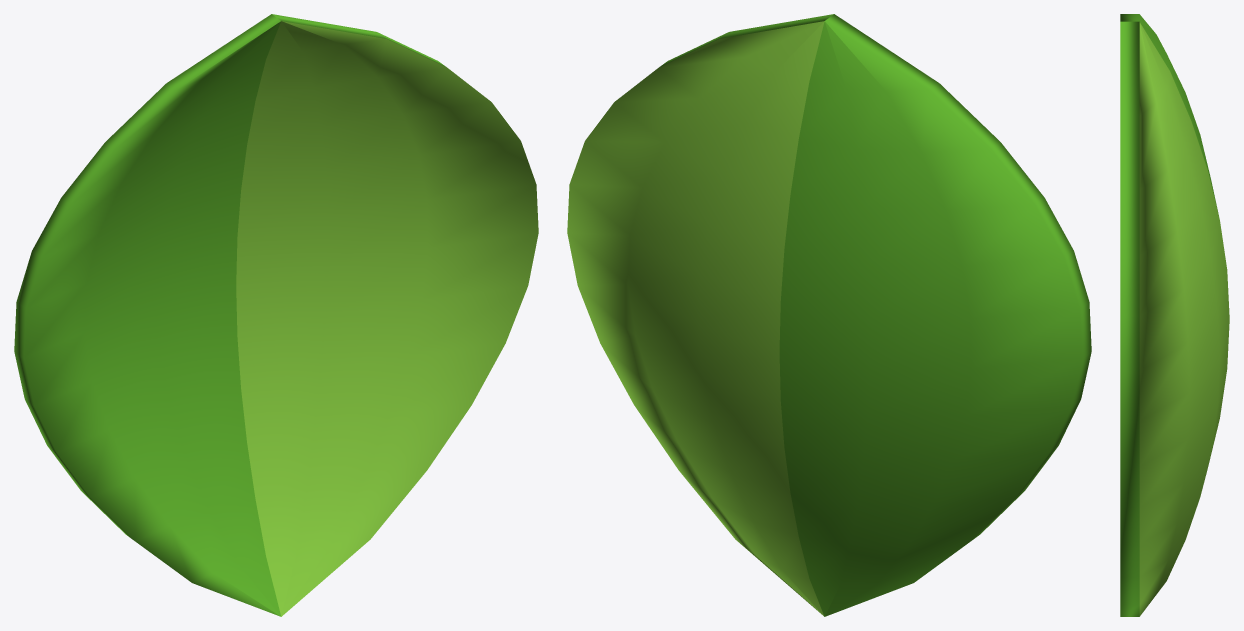
Rendered from ivy-leaf.glb.
3 renders of one model, left to right at view 1: azimuth 30°, elevation 25°; view 2: azimuth 150°, elevation 25°; view 3: azimuth 270°, elevation 25°, orthographic.
Parts seen in each view (by area): view 1: Rounded folded ivy leaf; view 2: Rounded folded ivy leaf; view 3: Rounded folded ivy leaf.
Part boxes in pixels (box(x1,y1,x2,y2)): Rounded folded ivy leaf: box(14, 14, 538, 616); Rounded folded ivy leaf: box(567, 14, 1091, 616); Rounded folded ivy leaf: box(1120, 14, 1229, 616).
Bounding box in the file's own units: 0.1383 × 0.153 × 0.0255.
